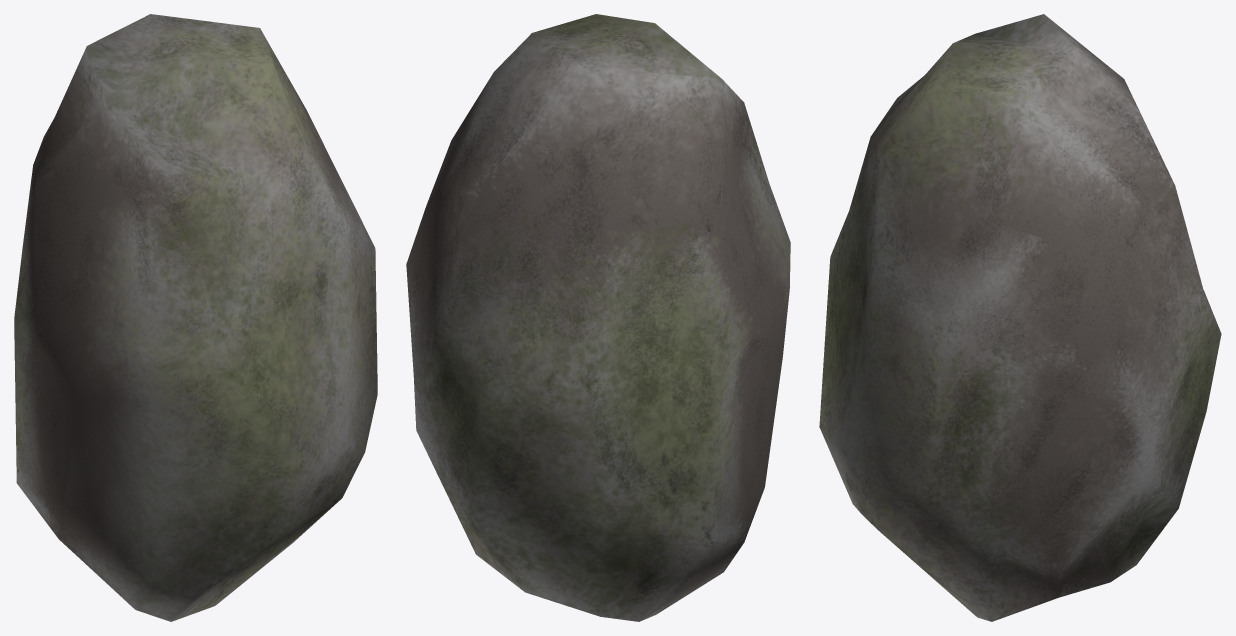
Rendered from rock.fbx.
The picture shows the model from 3 angles, left to right: view 1: azimuth 30°, elevation 25°; view 2: azimuth 150°, elevation 25°; view 3: azimuth 270°, elevation 25°; orthographic projection.
Visible parts, largest first — view 1: Plane.001; view 2: Plane.001; view 3: Plane.001.
Part boxes in pixels (<box>): Plane.001: <box>14,14,377,621</box>; Plane.001: <box>406,14,790,621</box>; Plane.001: <box>819,14,1221,621</box>.
Bounding box in the file's own units: 165 × 287 × 187.
Materials: 1 (1 with a texture image).
